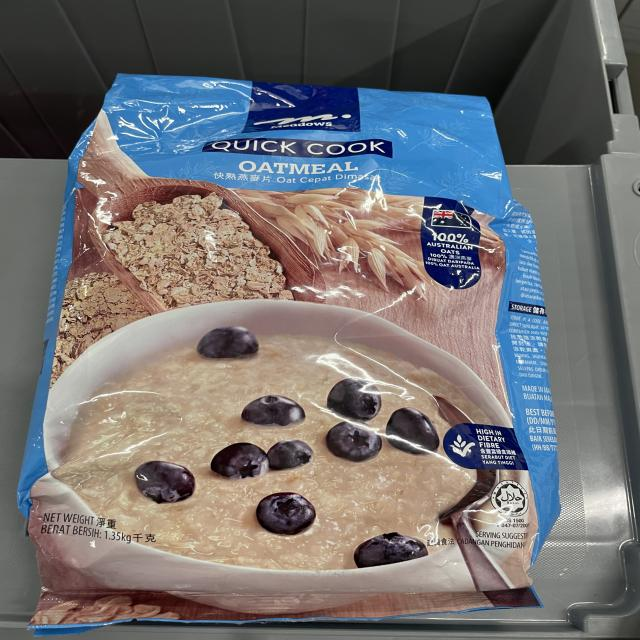object_name: (76, 97, 529, 613)
